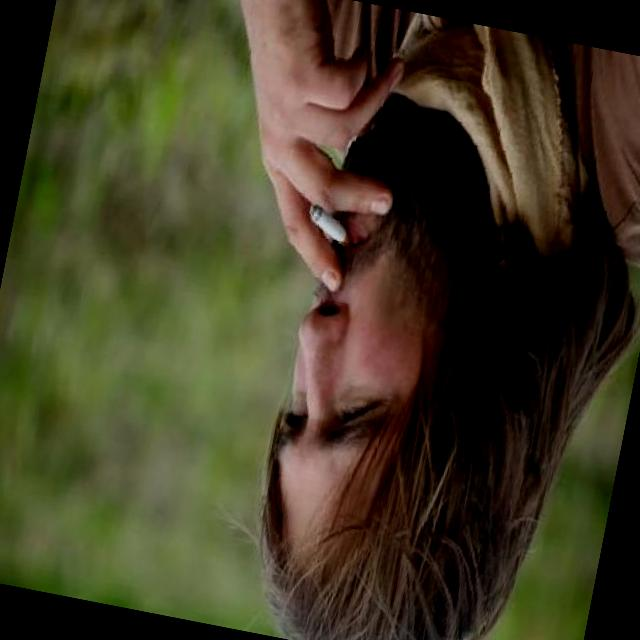smoke: (302, 198, 360, 252)
